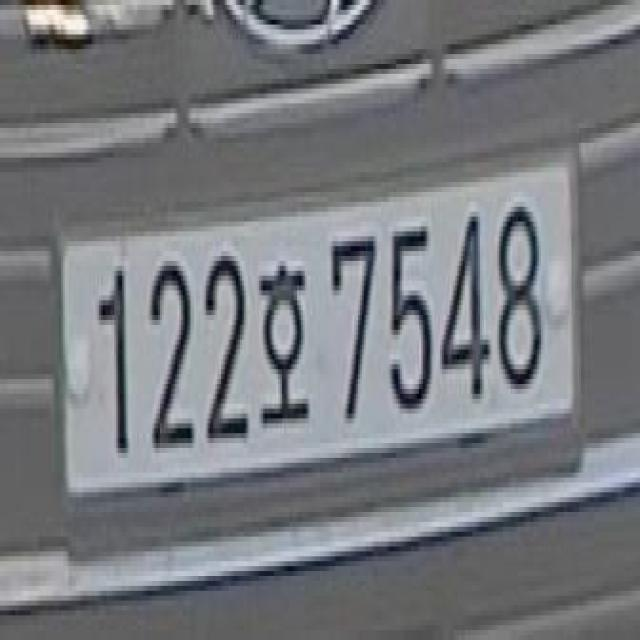illegal_plate: (59, 152, 588, 525)
